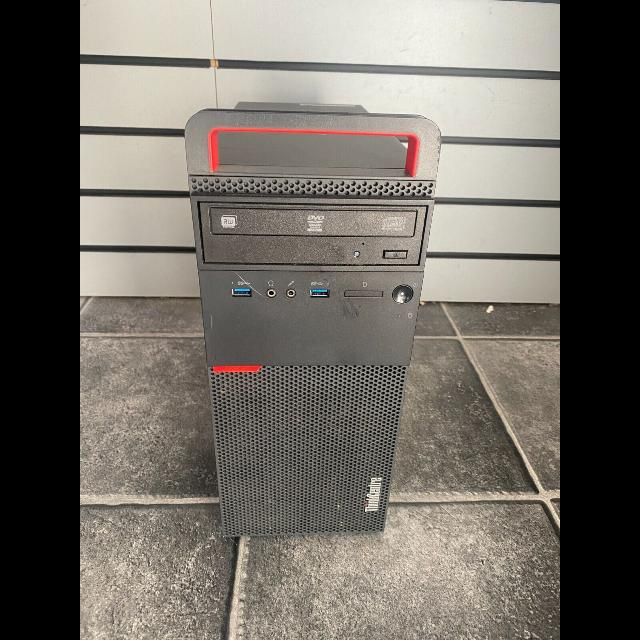Desktop-PC: (182, 101, 448, 547)
